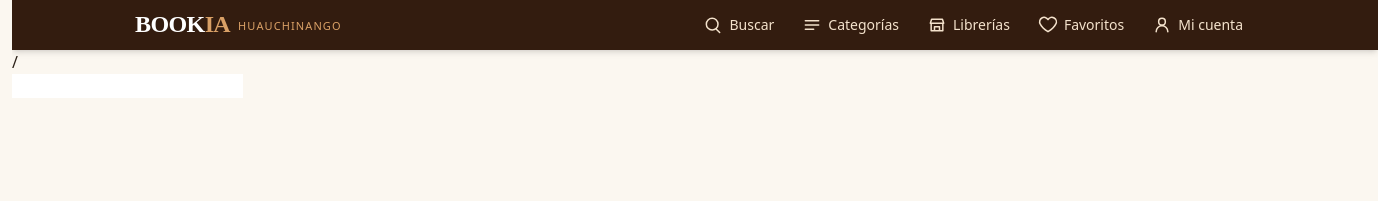
Test: Header categories menu › closes on outside click and on Escape
Click the button "Categorías".
click(851, 25)  # box [790,9,911,41]
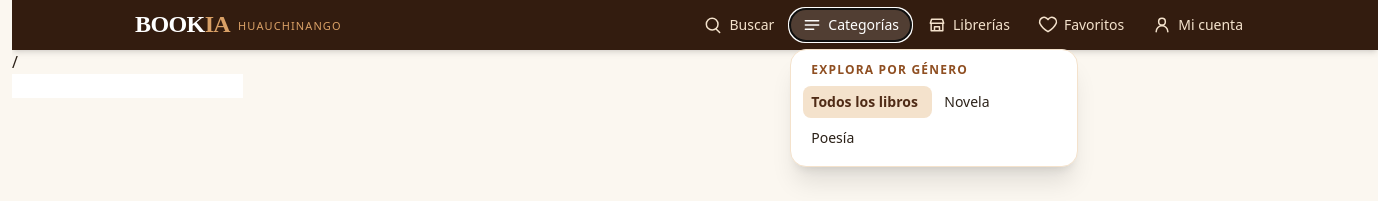
Click the text with test id "location".
click(15, 62)  # box [12,52,18,74]
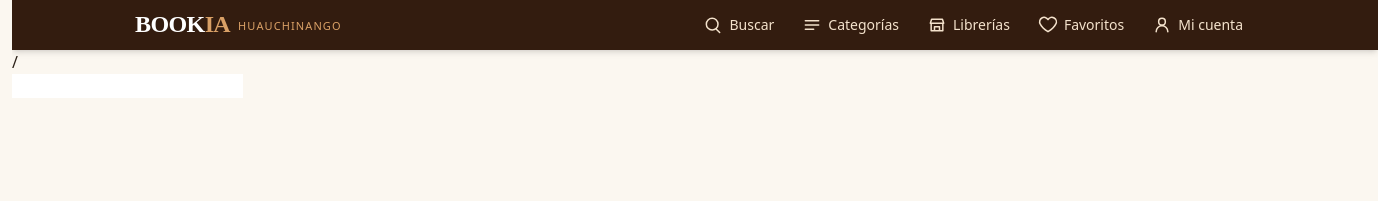
Expected: the menu is gone
Click the button "Categorías".
click(851, 25)  # box [790,9,911,41]
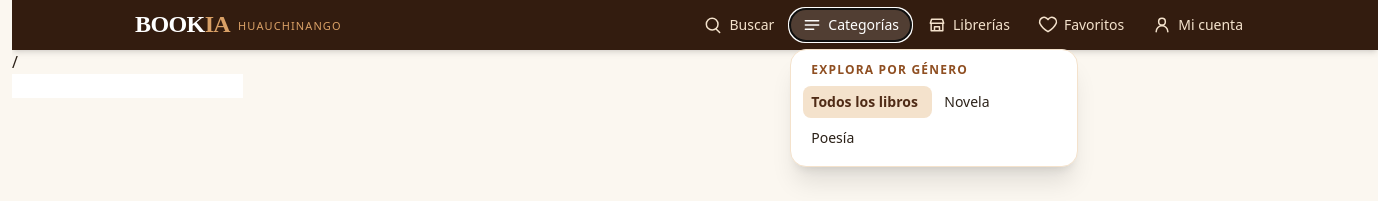
Press Escape
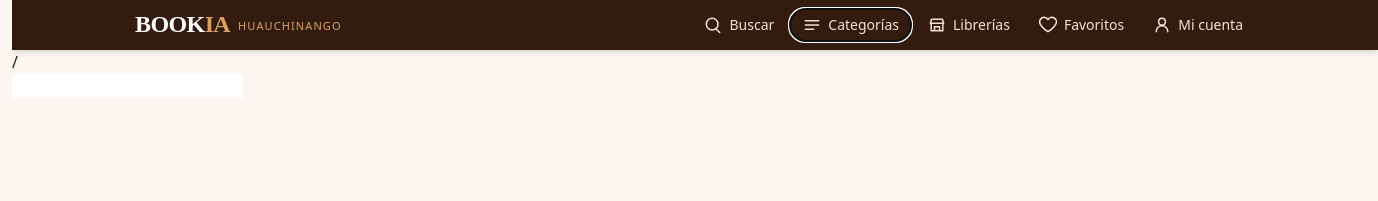
Expected: the menu is gone
